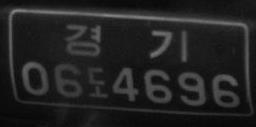0: (21, 60, 49, 96)
4: (112, 67, 138, 100)
6: (54, 62, 82, 98), (144, 68, 172, 104), (211, 73, 239, 108)
9: (177, 71, 206, 106)
경기_D: (65, 22, 188, 62)
도: (86, 66, 109, 98)
